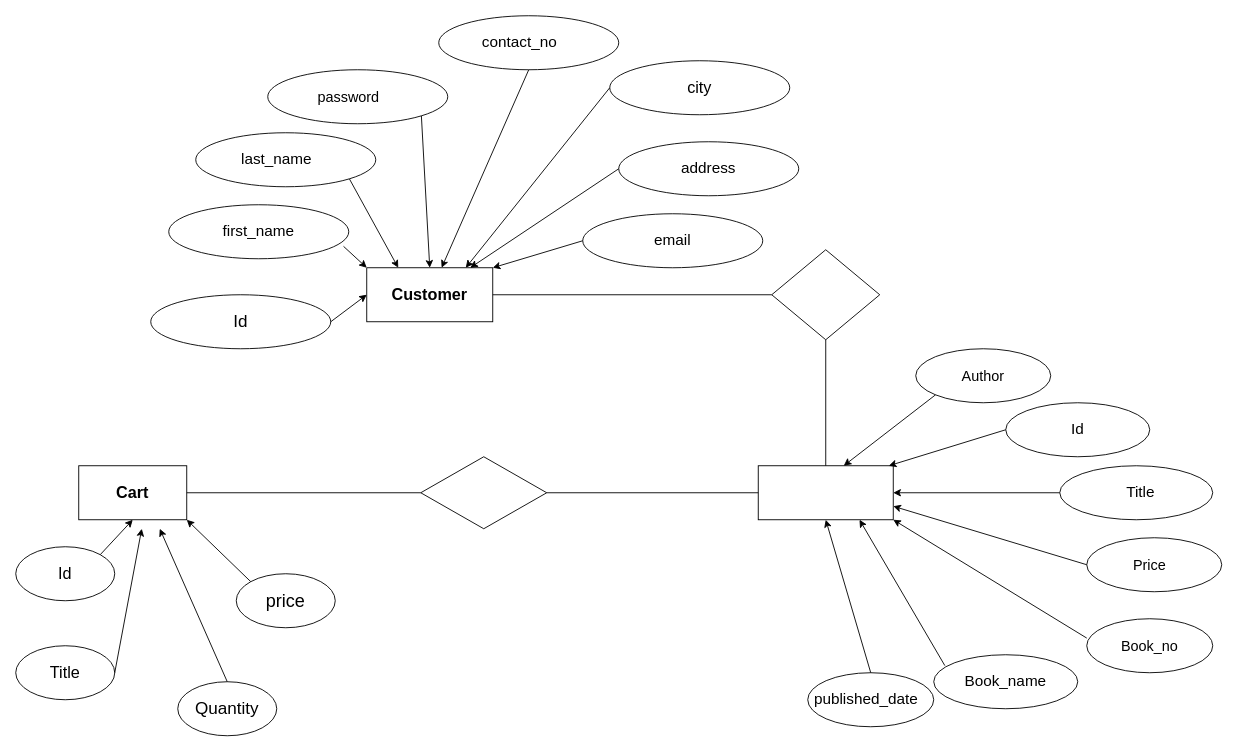
Some shapes in this 1238 by 752 pixel diagram are drawn without their labels. Each missing label, with the centre of its shape:
"Books" belongs at pixel 825 492.
"Buys" belongs at pixel 825 294.
"Contains" belongs at pixel 483 492.
